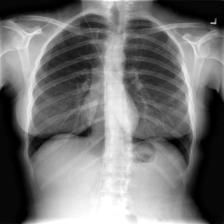normal: (20, 9, 198, 187)
